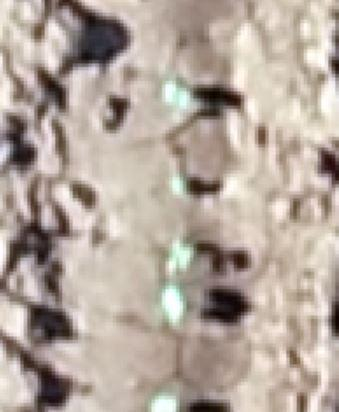cotton: (164, 286, 189, 320), (165, 242, 194, 269), (167, 81, 187, 107), (171, 174, 188, 194), (152, 397, 174, 412)
